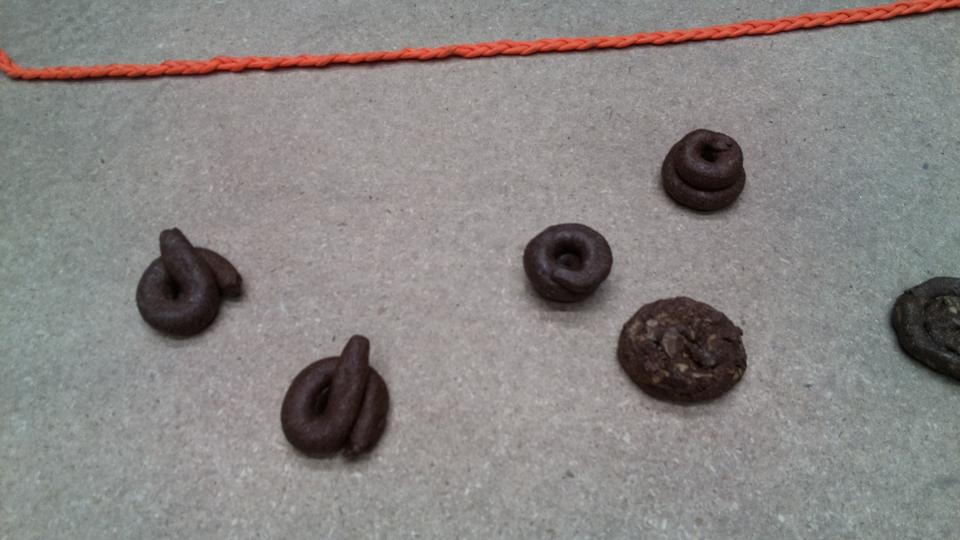poop: (277, 331, 393, 466), (616, 294, 750, 407), (133, 226, 248, 342), (889, 271, 960, 393), (658, 125, 748, 219), (520, 219, 615, 306)
rope: (1, 1, 958, 83)
